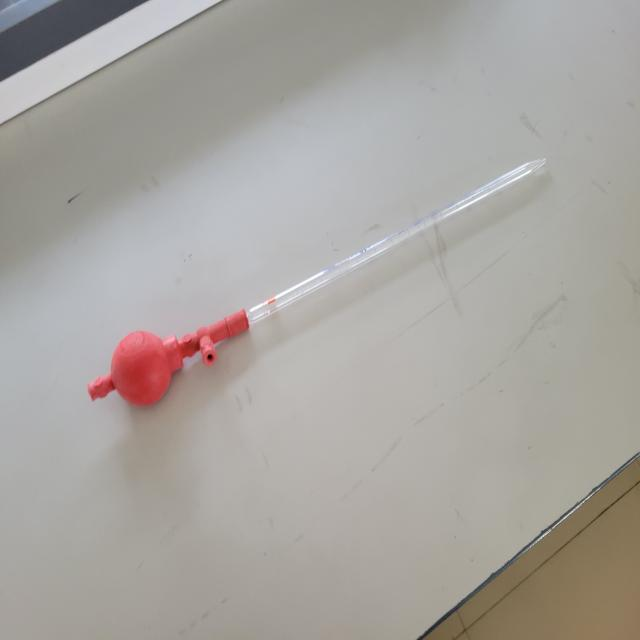Volumetric_Pipet: (69, 127, 562, 431)
